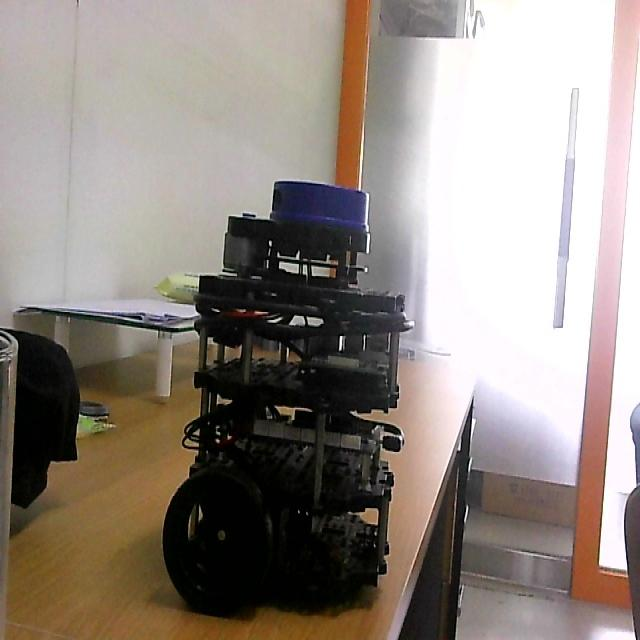turtle: (160, 178, 416, 620)
